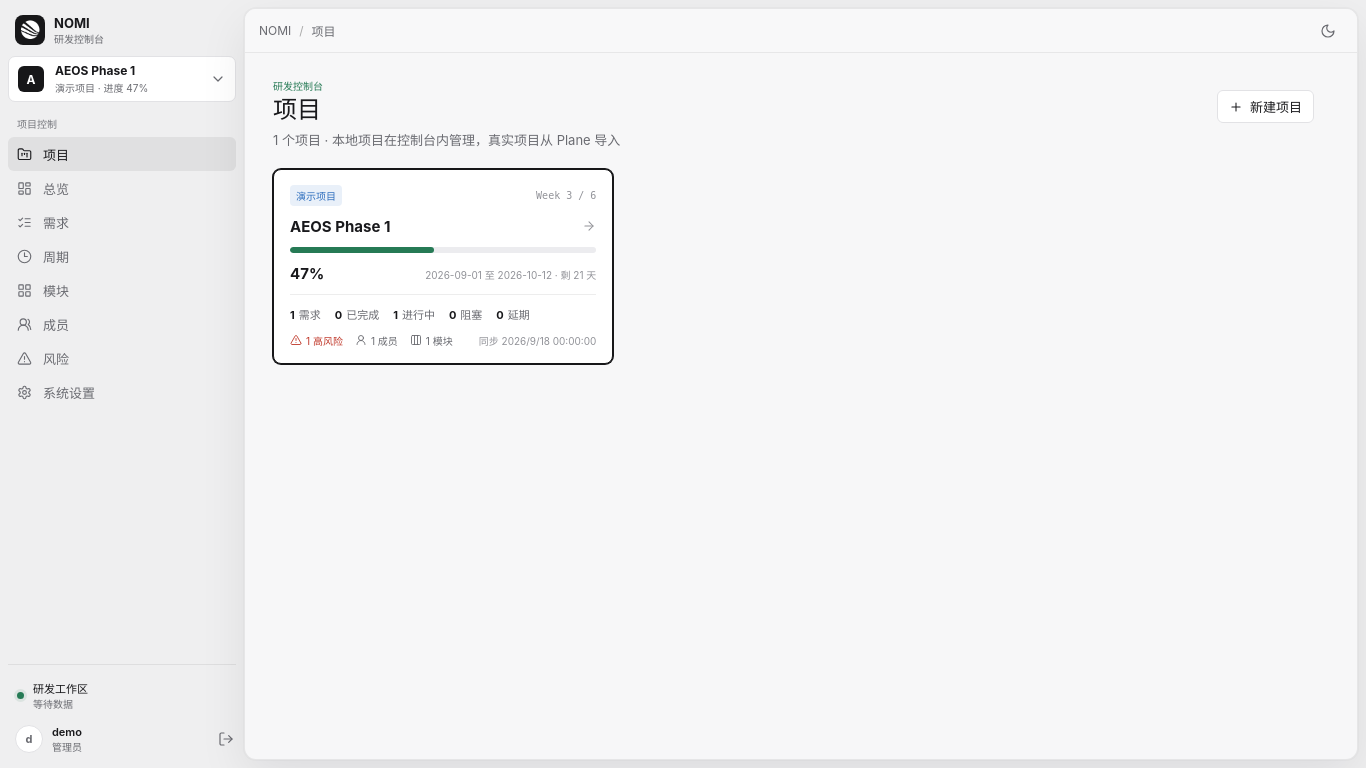
Test: data-backed console › shows a loading state while the snapshot is pending
Step 1. Click the button "AEOS Phase 1" → (340, 226), box [290, 217, 596, 236]
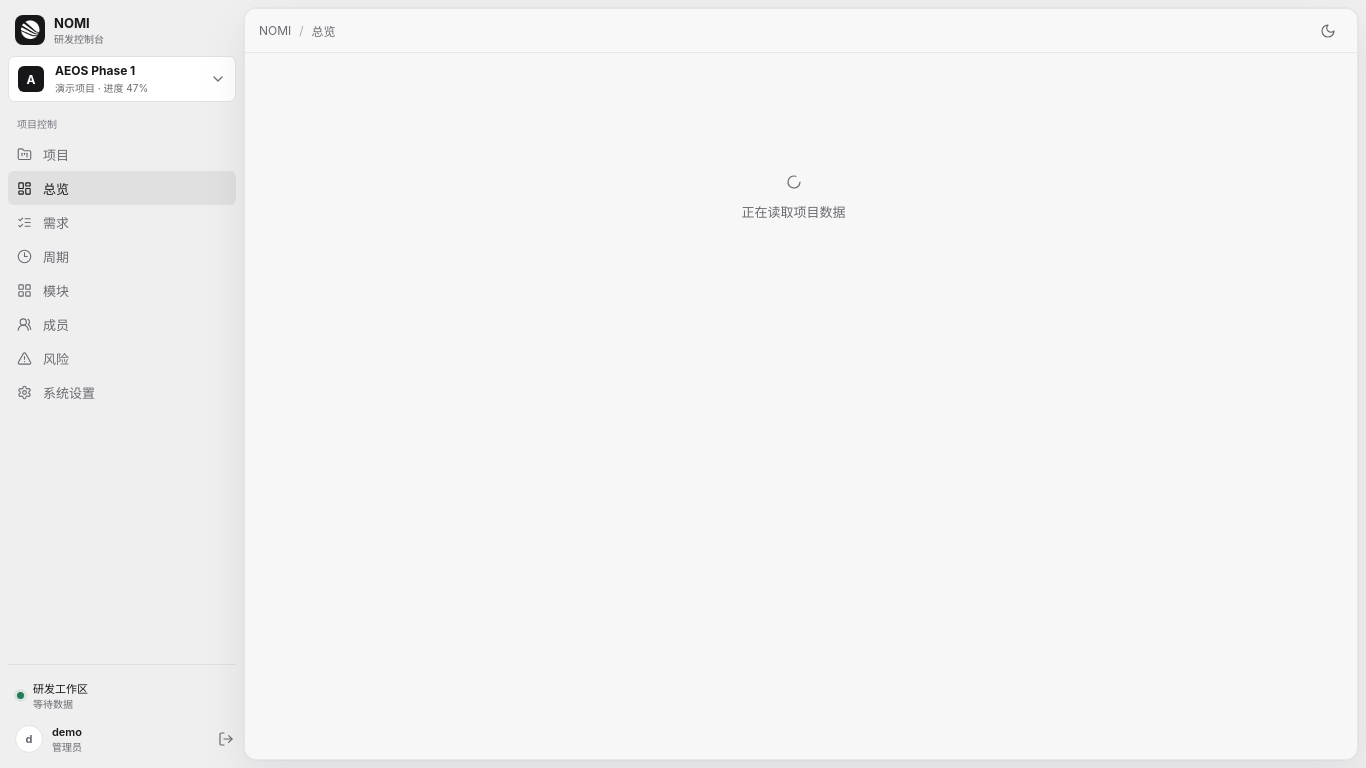
expect the text "正在读取项目数据" is shown: met, box [742, 202, 846, 220]
